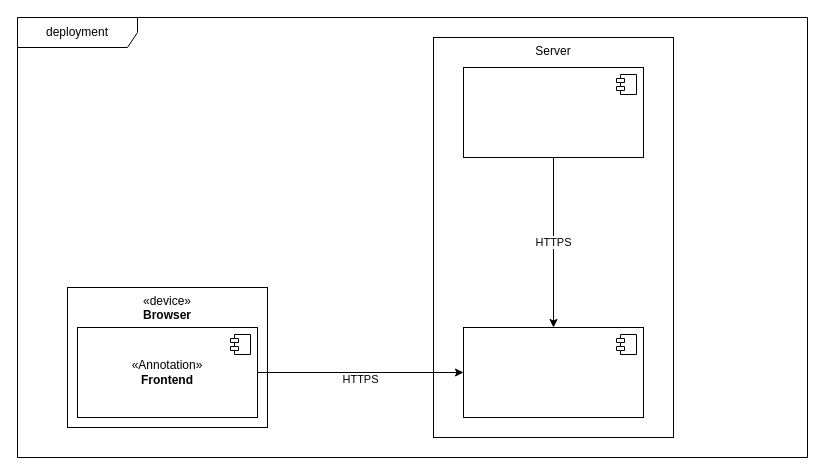
Some shapes in this 825 by 475 pixel diagram are drawn without their labels. Each missing label, with the box of its shape:
«Docker container» Backend: (462, 66, 644, 158)
«Docker container» Frontend: (462, 326, 644, 418)
